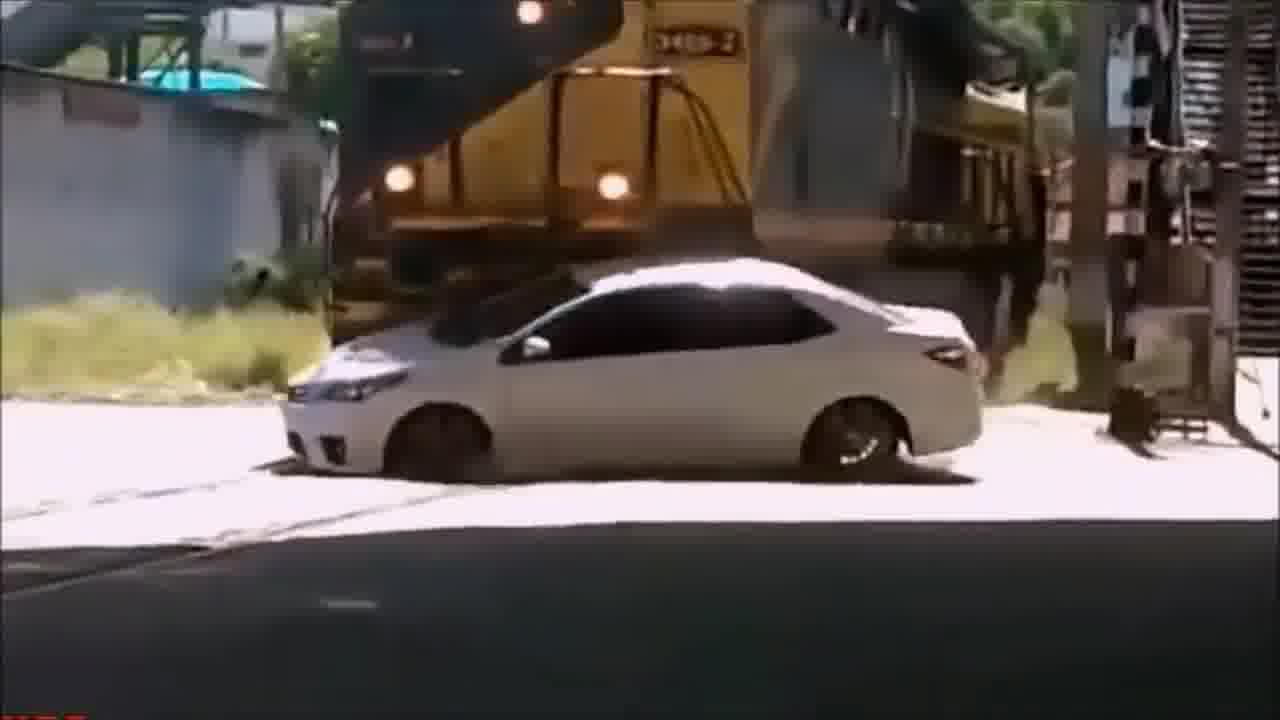crossing railway track: (286, 224, 1034, 510)
